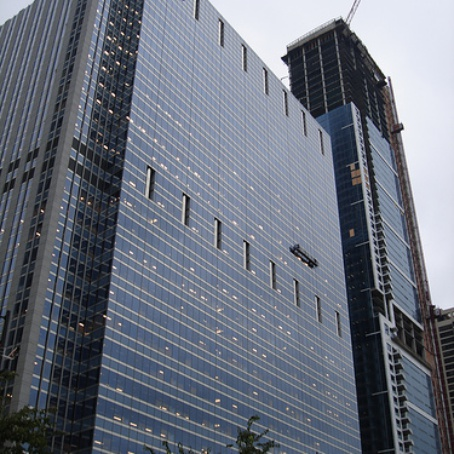building: (14, 13, 352, 454), (296, 27, 445, 444)
